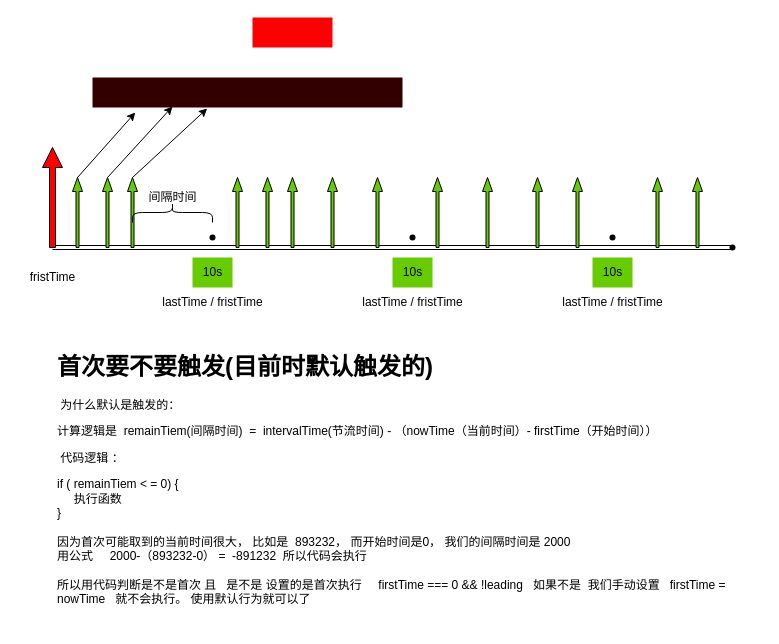
Image size: 779x644. Some labels were removed from this diagram. Here are the shapes that lost their labels. From the top down, the centre of each, then its label:
At pixel 292 32: "节流的过程".
At pixel 247 92: "每个事件触发的的当前时间 new Date().getTime（）".
